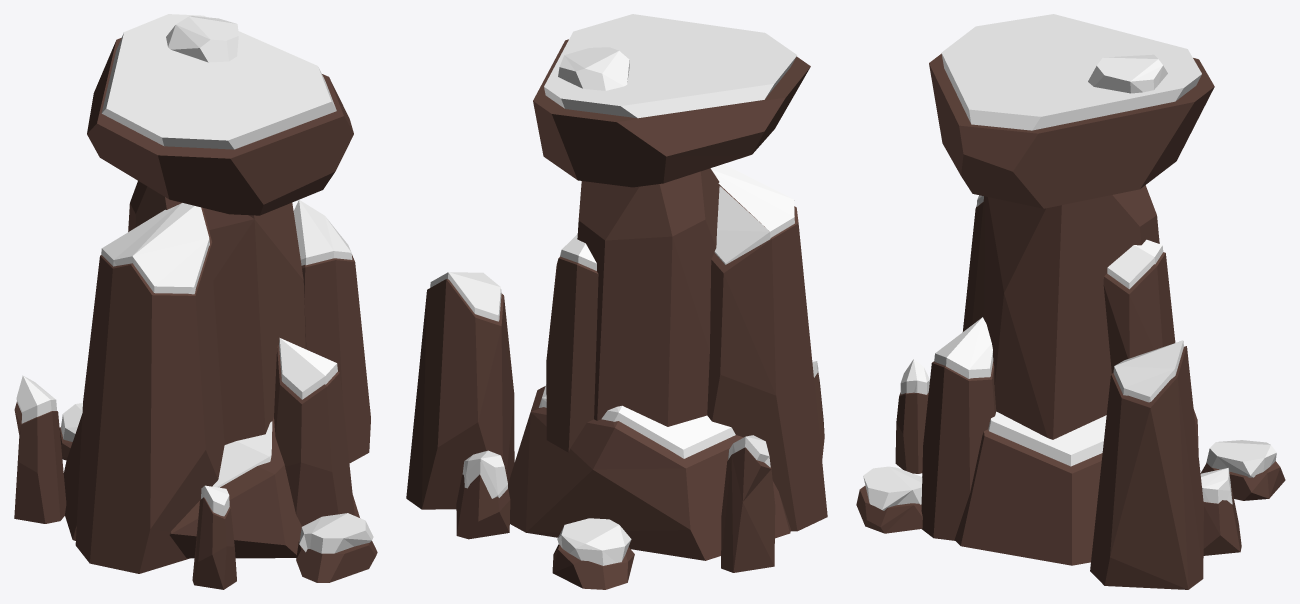
Rendered from snow_rock_011.fbx.
3 views of the same model, side by side, from view 1: azimuth 30°, elevation 25°; view 2: azimuth 150°, elevation 25°; view 3: azimuth 270°, elevation 25° (orthographic).
Parts seen in each view (by area): view 1: snow_rock_011; view 2: snow_rock_011; view 3: snow_rock_011.
Part boxes in pixels (x1,y1,x2,y2): snow_rock_011: [14, 14, 377, 589]; snow_rock_011: [406, 14, 827, 589]; snow_rock_011: [856, 14, 1285, 589].
Bounding box in the file's own units: 1155 × 1257 × 1462.
